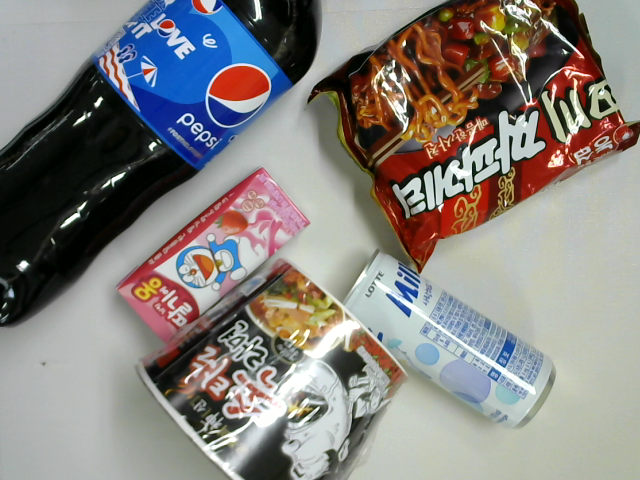HeJangsock: (134, 260, 405, 480)
Milkies_250ml: (342, 250, 556, 430)
Pepsi_Cola_1.5L: (1, 1, 320, 327)
Sichuan_Chapaghetti: (306, 1, 636, 274)
Strawberry_E_Mong: (113, 168, 313, 348)
